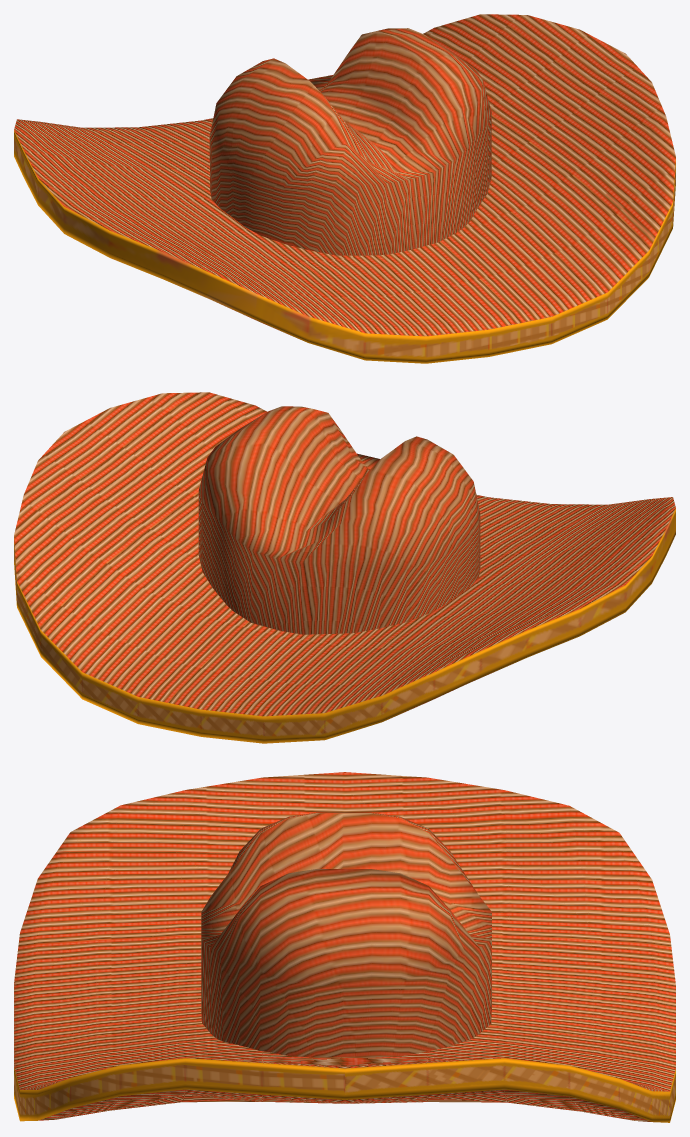
File: SM_Miguels_Cowboy_Hat.fbx
3 renders of one model, top to bottom at view 1: azimuth 30°, elevation 25°; view 2: azimuth 150°, elevation 25°; view 3: azimuth 270°, elevation 25°, orthographic. The views are drawn at different scales.
Parts seen in each view (by area): view 1: polySurface1; view 2: polySurface1; view 3: polySurface1.
Part boxes in pixels (x1,y1,x2,y2): polySurface1: (14,14,675,363); polySurface1: (14,392,675,743); polySurface1: (14,772,675,1122).
Bounding box in the file's own units: 3.31 × 1.11 × 2.94.
1 material, 1 textured.
